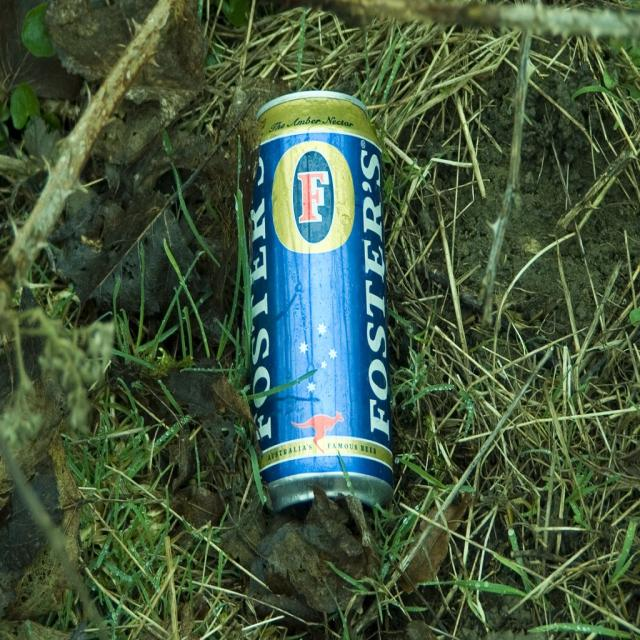fosters: (270, 139, 357, 258)
